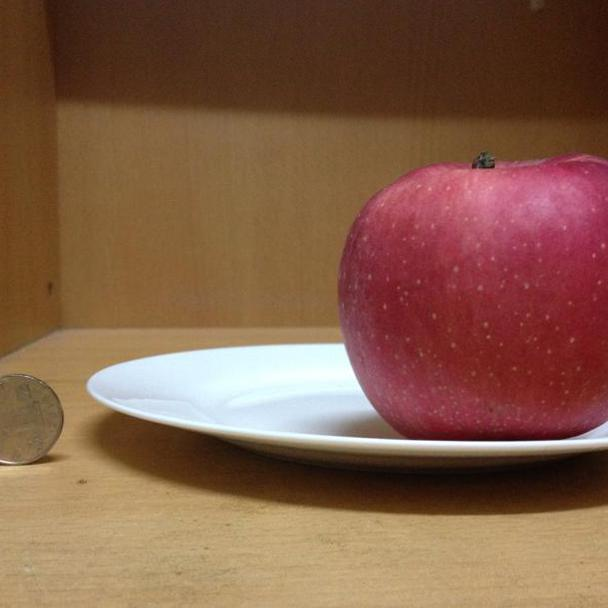apple: (337, 151, 608, 440)
